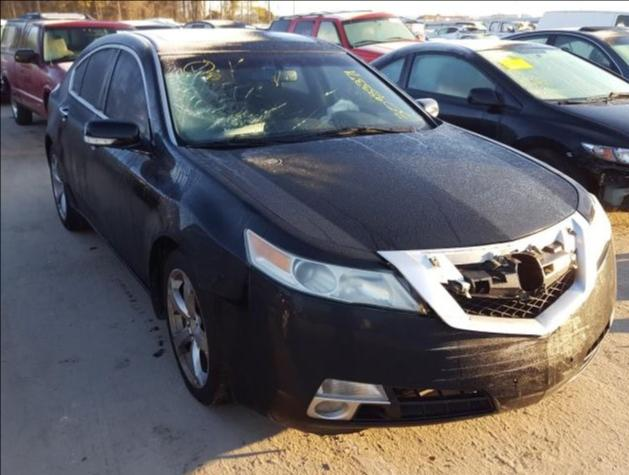Broken part: (380, 208, 597, 335), (215, 265, 251, 313)
Cracked: (158, 51, 431, 144)
Flaking: (480, 316, 601, 398)
Scratch: (276, 291, 289, 338)
